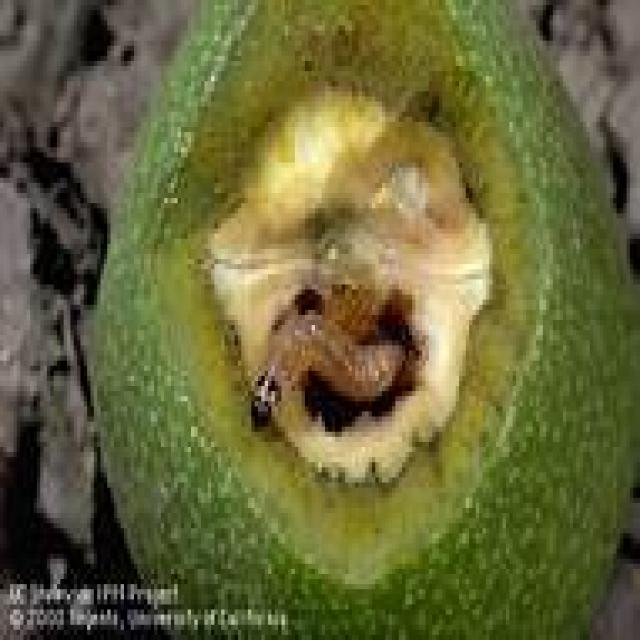Olive Fruit Fly: (97, 0, 633, 635)
